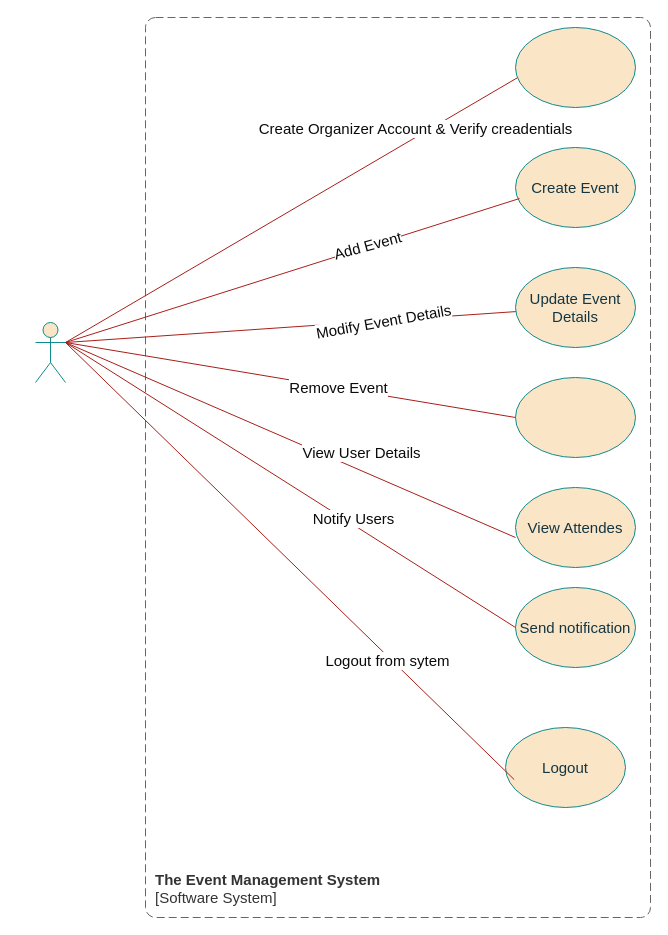
The diagram is 668 pixels wide and 935 high, and some of its shapes have lost their labels. The centre of each missing label's shape, as x and y in pixels:
Delete Event: point 575,417
Organizer: point 50,352
Register & Login: point 575,67
